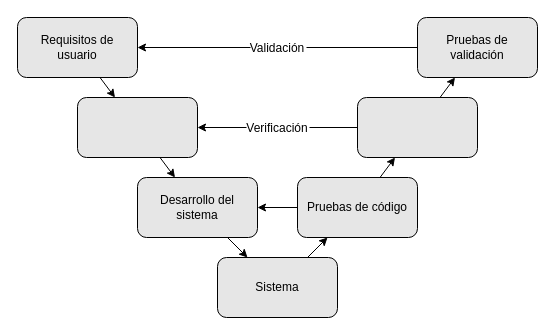
Image size: 555x335. Some labels were removed from this diagram. The centre of each missing label's shape, as x and y in pixels:
"Pruebas de verificación" belongs at pixel 417 127.
"Requisitos de software" belongs at pixel 137 127.
